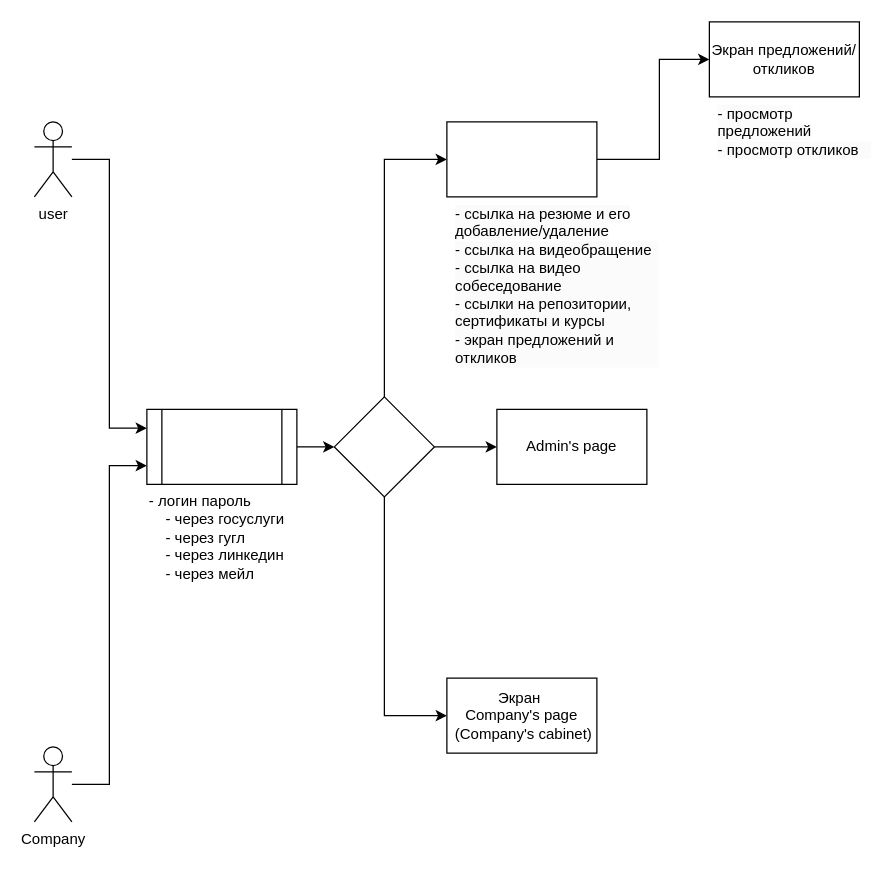
This 894x870 diagram has some shape labels left out. The shapes that lost their labels are listed below. From the top down, each one's centre as x and y in pixels, then its label:
At (521,159): "Экран Personal page (user's cabine)".
At (221,446): "AUTH".
At (383,446): "is user?".
